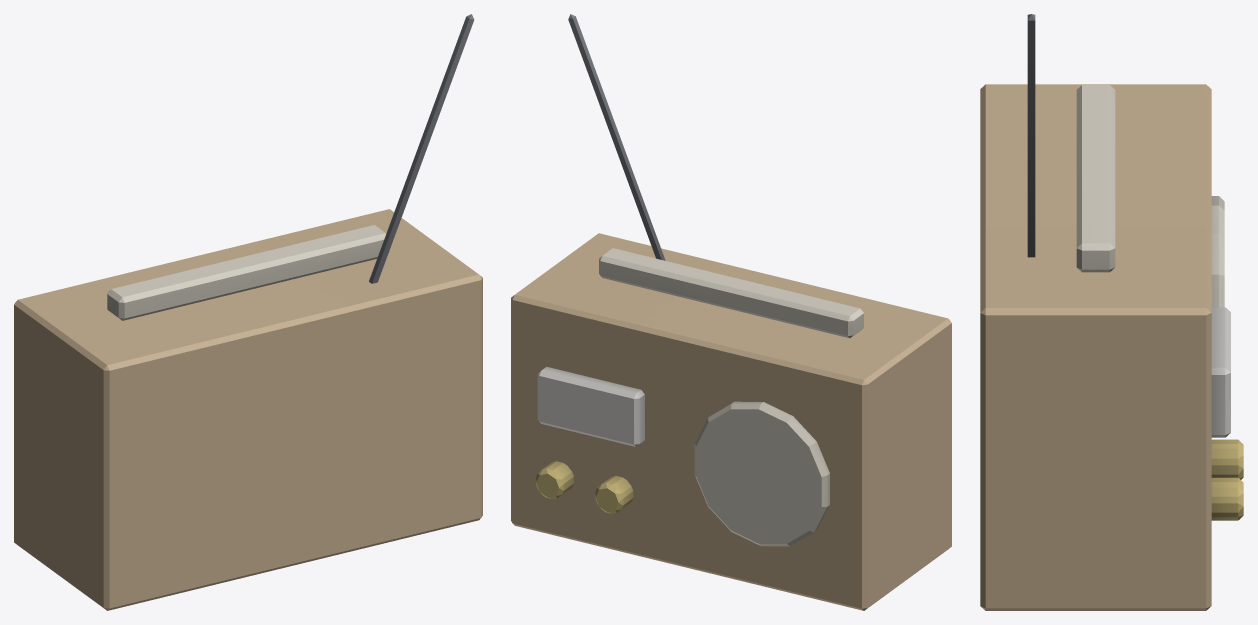
Rendered from furn_radio__oak.glb.
The picture shows the model from 3 angles, left to right: view 1: azimuth 30°, elevation 25°; view 2: azimuth 150°, elevation 25°; view 3: azimuth 270°, elevation 25°; orthographic projection. The views are drawn at different scales.
Size of the model in its own units: 0.4295 by 0.5182 by 0.205.
